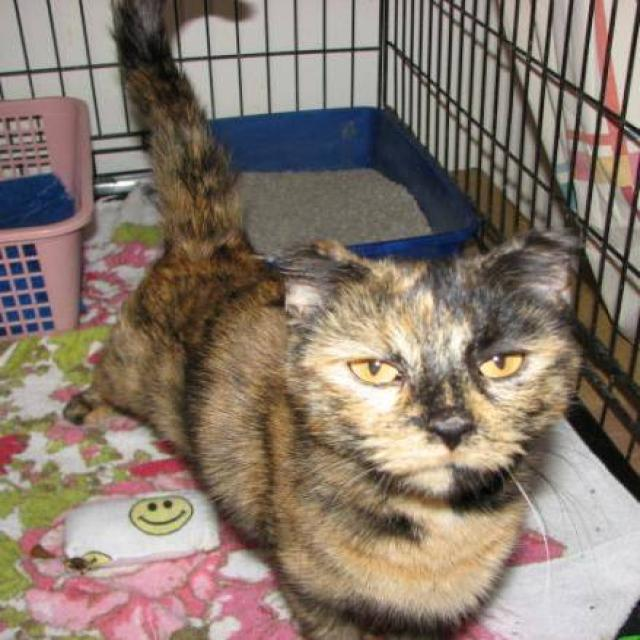cat: (61, 0, 589, 639)
